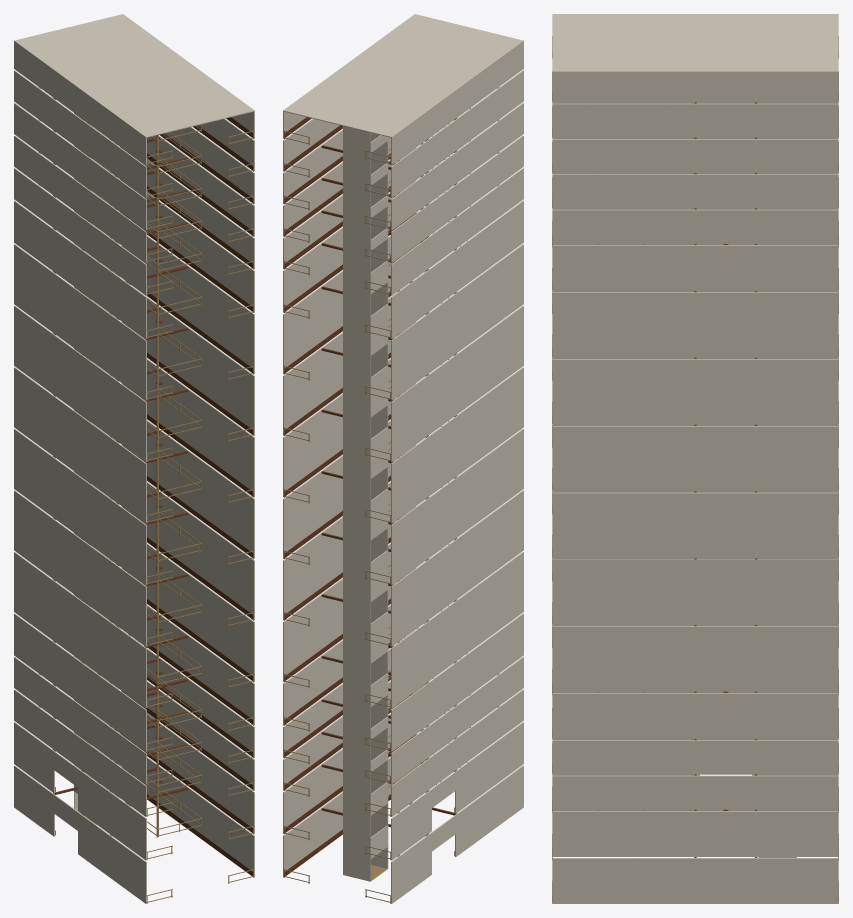
The model's file is AST-CIR-005_forward_core.glb.
The picture shows the model from 3 angles, left to right: view 1: azimuth 30°, elevation 25°; view 2: azimuth 150°, elevation 25°; view 3: azimuth 270°, elevation 25°; orthographic projection. The views are drawn at different scales.
Parts seen in each view (by area): view 1: CORE_BATCH_ivory_enamel, CORE_BATCH_warm_walnut, CORE_BATCH_champagne_metal; view 2: CORE_BATCH_ivory_enamel, CORE_BATCH_warm_walnut, CORE_BATCH_champagne_metal; view 3: CORE_BATCH_ivory_enamel, CORE_BATCH_champagne_metal.
Boxes of the visible parts, x1,y1,x2,y2 form: CORE_BATCH_ivory_enamel: [14, 14, 254, 903]; CORE_BATCH_warm_walnut: [53, 97, 253, 875]; CORE_BATCH_champagne_metal: [38, 87, 254, 903]; CORE_BATCH_ivory_enamel: [283, 14, 523, 903]; CORE_BATCH_warm_walnut: [284, 117, 456, 875]; CORE_BATCH_champagne_metal: [283, 87, 499, 903]; CORE_BATCH_ivory_enamel: [552, 14, 838, 903]; CORE_BATCH_champagne_metal: [552, 36, 838, 902].
Size of the model in its own units: 15.76 by 106 by 33.08.
Materials: 4 (3 with a texture image).
